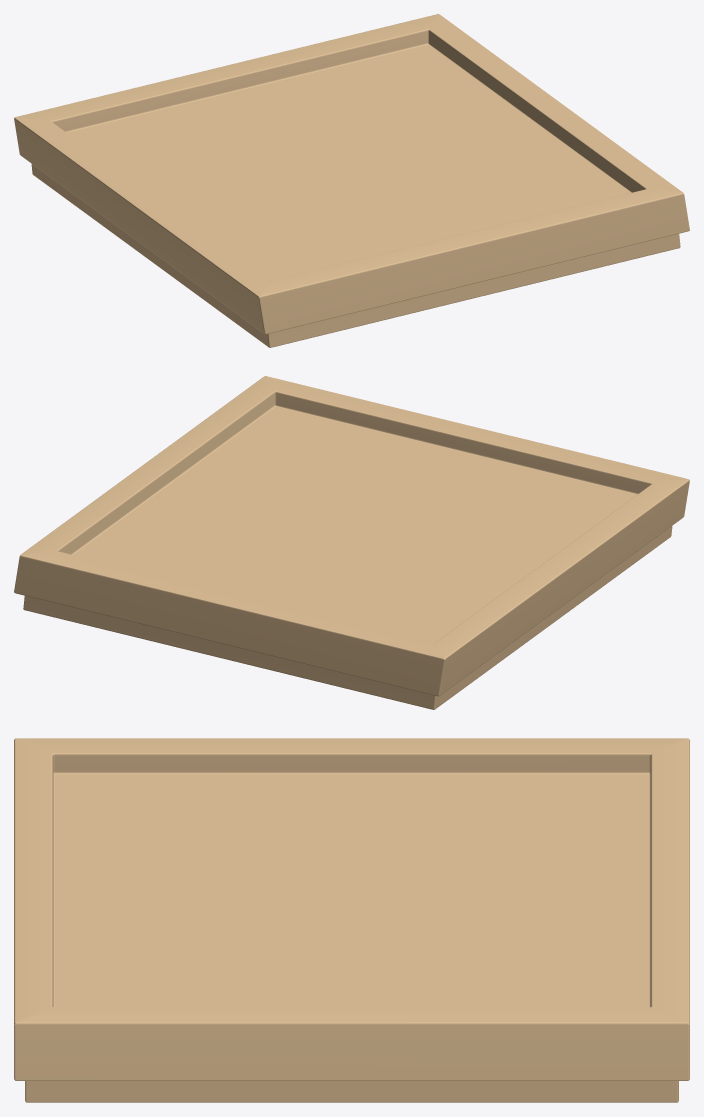
File: Mesh_EDH_Roof2.fbx
3 views of the same model, one above another, from view 1: azimuth 30°, elevation 25°; view 2: azimuth 150°, elevation 25°; view 3: azimuth 270°, elevation 25° (orthographic). The views are drawn at different scales.
Visible parts, largest first — view 1: polySurface119; view 2: polySurface119; view 3: polySurface119.
Boxes of the visible parts, box(x1,y1,x2,y2) form: polySurface119: box(14, 14, 689, 347); polySurface119: box(14, 376, 689, 709); polySurface119: box(14, 738, 689, 1102).
Bounding box in the file's own units: 182 × 23.5 × 179.
